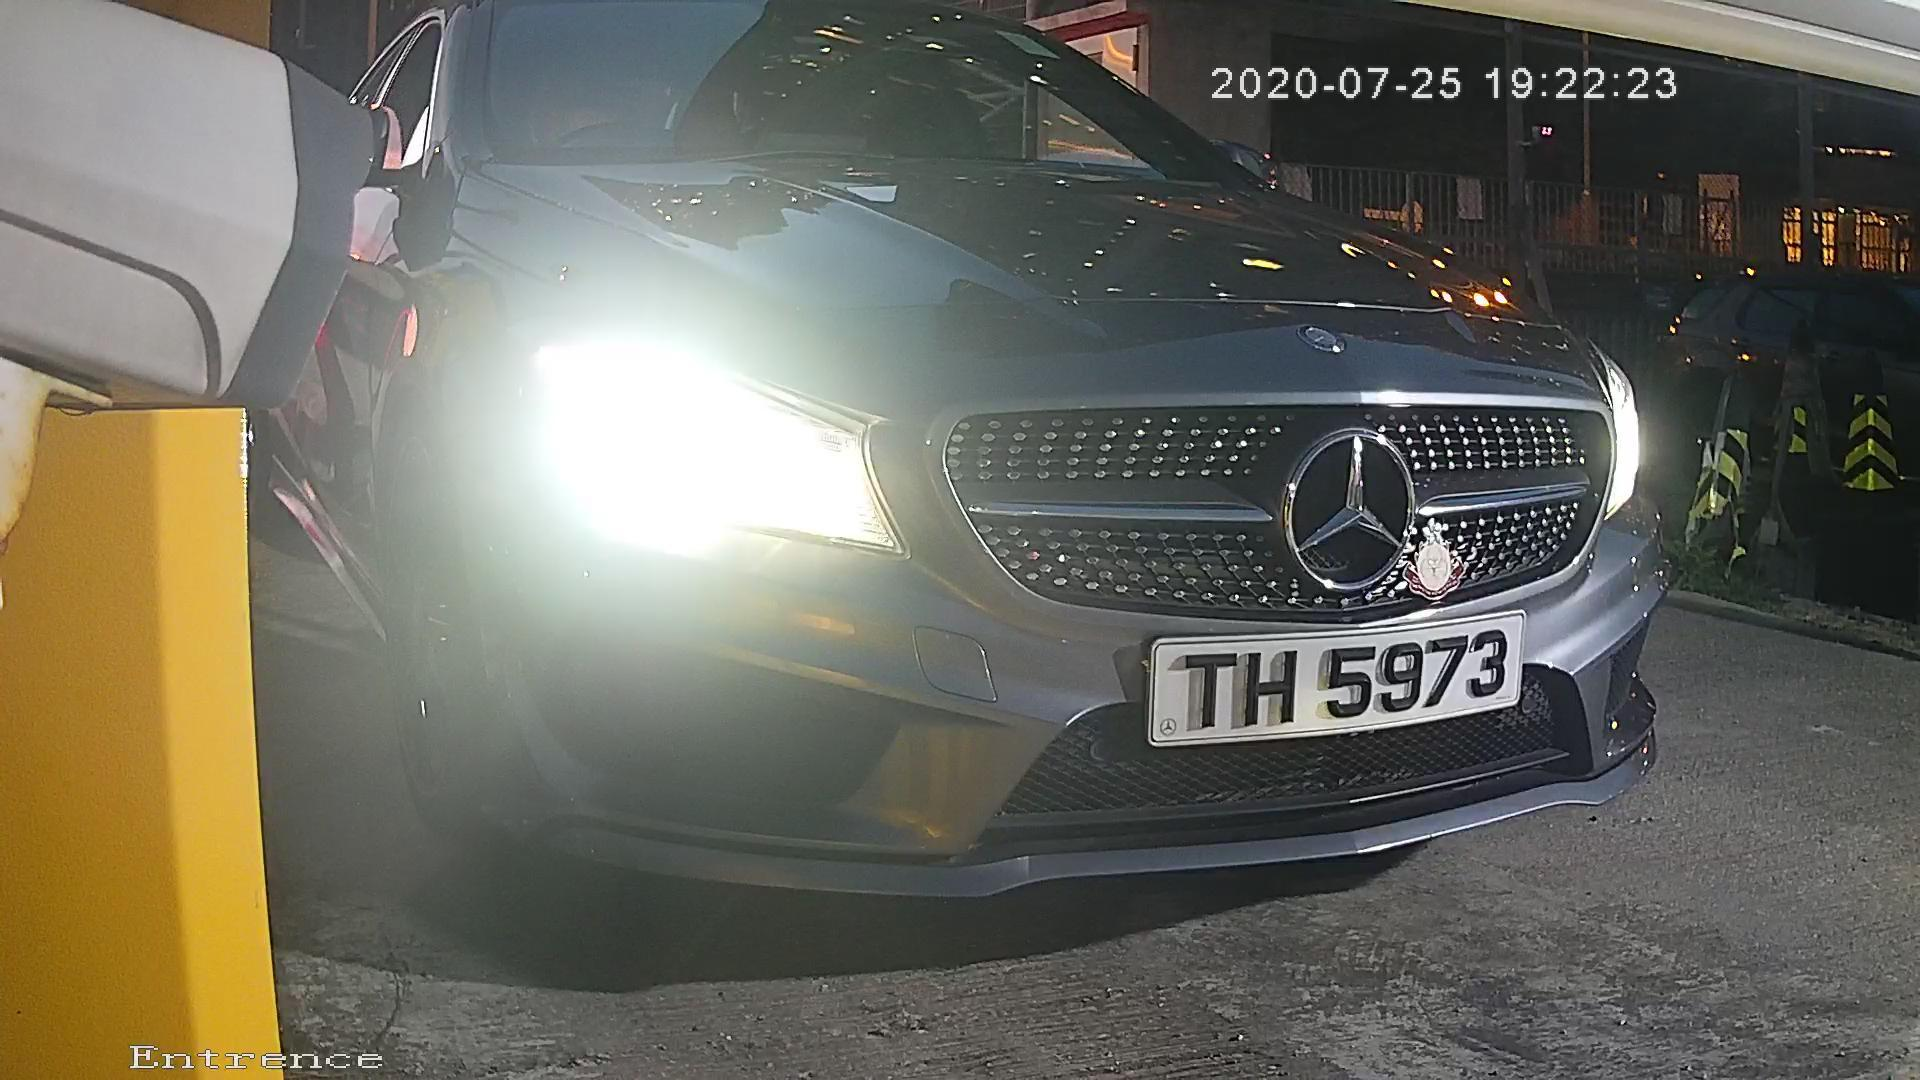privatecar: (369, 15, 1655, 949)
